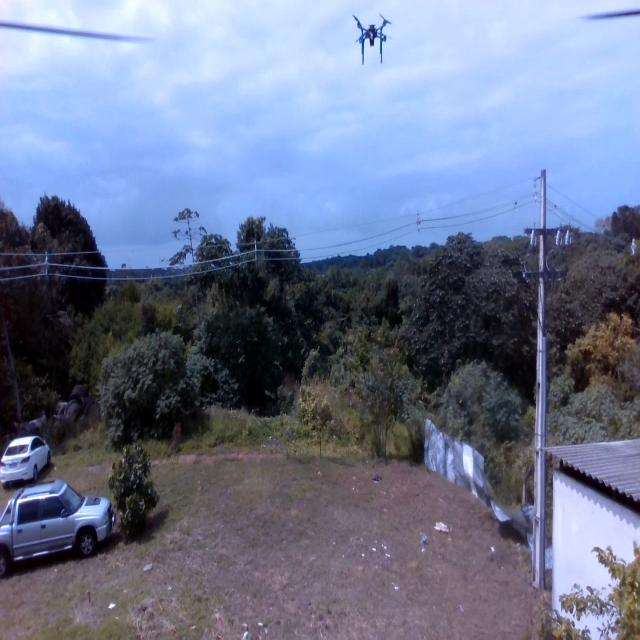-uav-: (347, 1, 395, 76)
